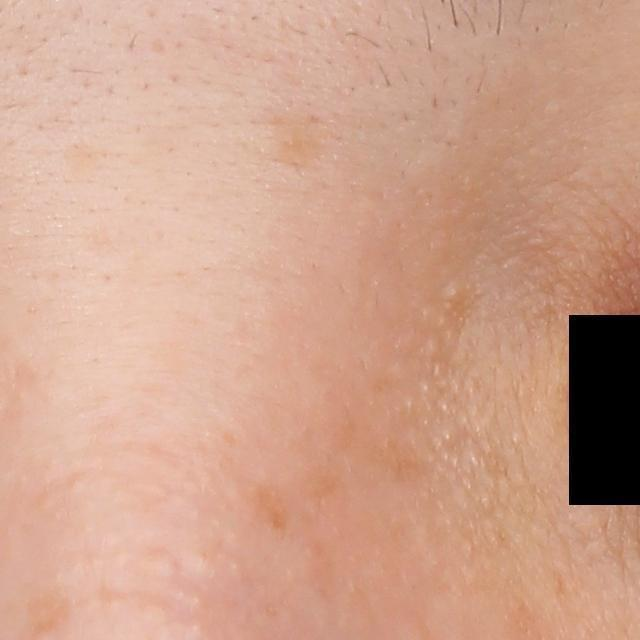melasma: (272, 88, 320, 176), (254, 483, 295, 544), (383, 432, 425, 489), (19, 589, 74, 631)
